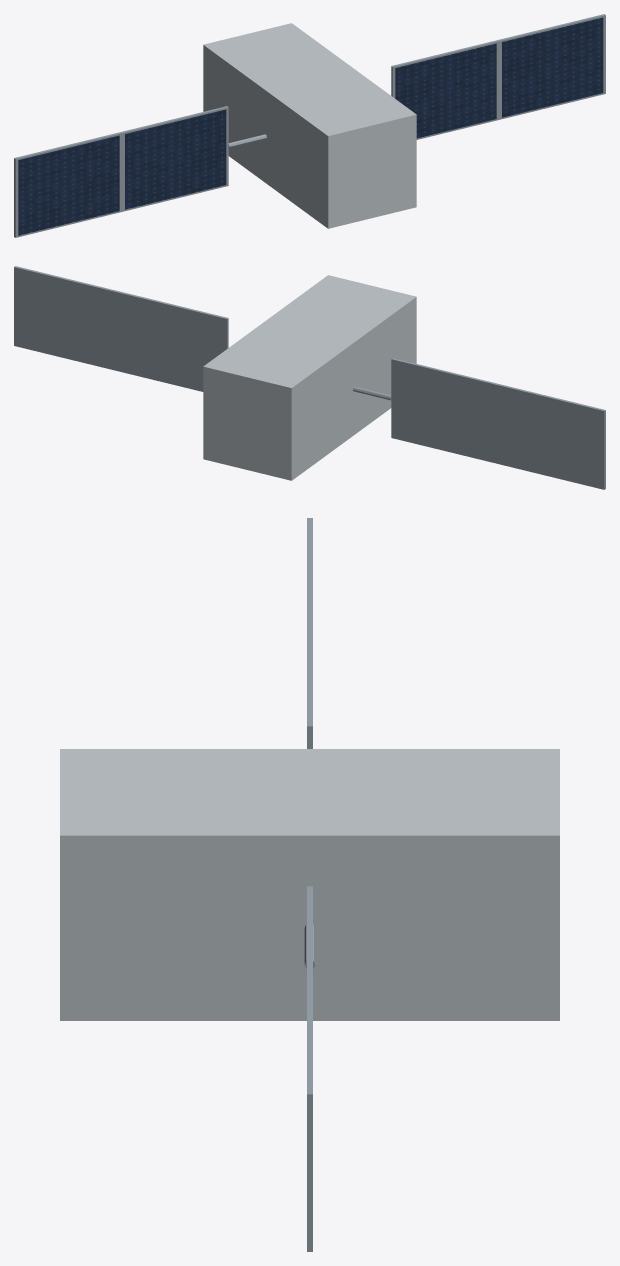
Rendered from ref-pmm-47699.glb.
3 views of the same model, one above another, from view 1: azimuth 30°, elevation 25°; view 2: azimuth 150°, elevation 25°; view 3: azimuth 270°, elevation 25° (orthographic). The views are drawn at different scales.
Visible parts, largest first — view 1: Photovoltaic laminates (×4), Spacecraft body, Array frame (×4); view 2: Array frame (×4), Spacecraft body; view 3: Spacecraft body, Array frame.
Part boxes in pixels (bbox=[...]): Photovoltaic laminates (×4): bbox=[18, 17, 603, 235]; Spacecraft body: bbox=[203, 23, 416, 228]; Array frame (×4): bbox=[14, 14, 605, 237]; Array frame (×4): bbox=[14, 266, 605, 489]; Spacecraft body: bbox=[203, 275, 416, 480]; Spacecraft body: bbox=[60, 749, 559, 1020]; Array frame: bbox=[307, 990, 312, 1251].
Size of the model in its own units: 6 by 0.9 by 2.2.
3 materials, 1 textured.
